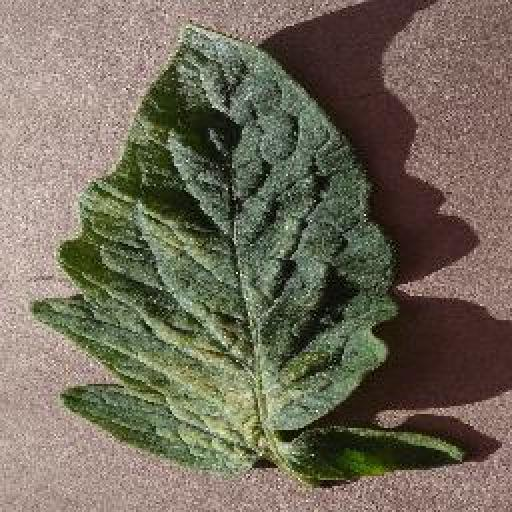disease_tomato: (33, 21, 467, 484)
